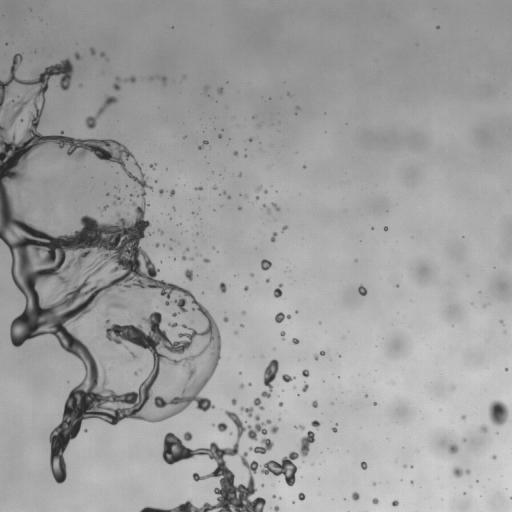droplet: (488, 400, 509, 426), (275, 312, 291, 322), (273, 283, 282, 297), (253, 398, 263, 410), (112, 77, 121, 90), (261, 259, 271, 270), (99, 205, 108, 216), (184, 269, 193, 280), (216, 422, 227, 431), (447, 444, 458, 453), (282, 374, 294, 382), (358, 285, 367, 295), (310, 420, 320, 428), (219, 282, 226, 293), (124, 76, 135, 82), (134, 368, 142, 375), (302, 369, 309, 377), (270, 426, 278, 433), (360, 461, 367, 469), (298, 492, 305, 500), (352, 492, 359, 500), (302, 383, 308, 391), (160, 76, 166, 83), (292, 338, 299, 344), (481, 425, 487, 432), (280, 331, 285, 339), (74, 53, 80, 59), (114, 185, 120, 191), (372, 498, 378, 504), (392, 500, 398, 506), (312, 400, 317, 407), (90, 48, 95, 54), (217, 87, 222, 93), (149, 164, 155, 169), (256, 185, 261, 191), (282, 225, 287, 231), (231, 399, 236, 405), (195, 186, 202, 190), (158, 189, 163, 194), (158, 229, 163, 234), (223, 317, 228, 322), (203, 258, 209, 262), (170, 190, 174, 195), (182, 255, 186, 260), (278, 402, 283, 406), (461, 415, 466, 419), (274, 506, 278, 511), (204, 86, 208, 90), (233, 151, 237, 155), (155, 243, 159, 247), (244, 286, 248, 290), (189, 319, 193, 323), (239, 384, 243, 388), (492, 455, 496, 459), (213, 185, 216, 189), (238, 206, 241, 210), (500, 320, 503, 324), (272, 495, 276, 498), (296, 106, 299, 109), (218, 135, 221, 138), (249, 138, 252, 141), (238, 173, 241, 176), (222, 191, 225, 194), (106, 193, 109, 196), (227, 195, 230, 198), (384, 227, 387, 230), (190, 257, 193, 260), (250, 273, 253, 276), (266, 279, 269, 282), (242, 311, 245, 314), (436, 26, 439, 28), (303, 165, 305, 168), (264, 190, 267, 192), (256, 196, 258, 199), (172, 207, 175, 209), (169, 247, 172, 249), (186, 248, 188, 251), (503, 331, 506, 333), (248, 383, 251, 385), (374, 402, 376, 405), (84, 429, 87, 431), (463, 438, 465, 441), (410, 481, 413, 483), (150, 77, 152, 79), (125, 185, 127, 187), (150, 233, 152, 235), (241, 324, 243, 326), (452, 387, 454, 389), (404, 465, 406, 467)
ligament: (0, 53, 221, 483), (140, 406, 314, 511), (85, 96, 117, 129), (261, 359, 279, 398), (248, 437, 273, 454), (120, 350, 141, 365), (452, 467, 470, 477), (198, 140, 208, 149), (314, 351, 325, 359), (271, 202, 280, 211), (270, 232, 277, 242), (100, 52, 108, 60), (262, 204, 269, 213), (332, 423, 337, 432), (294, 425, 304, 429)
